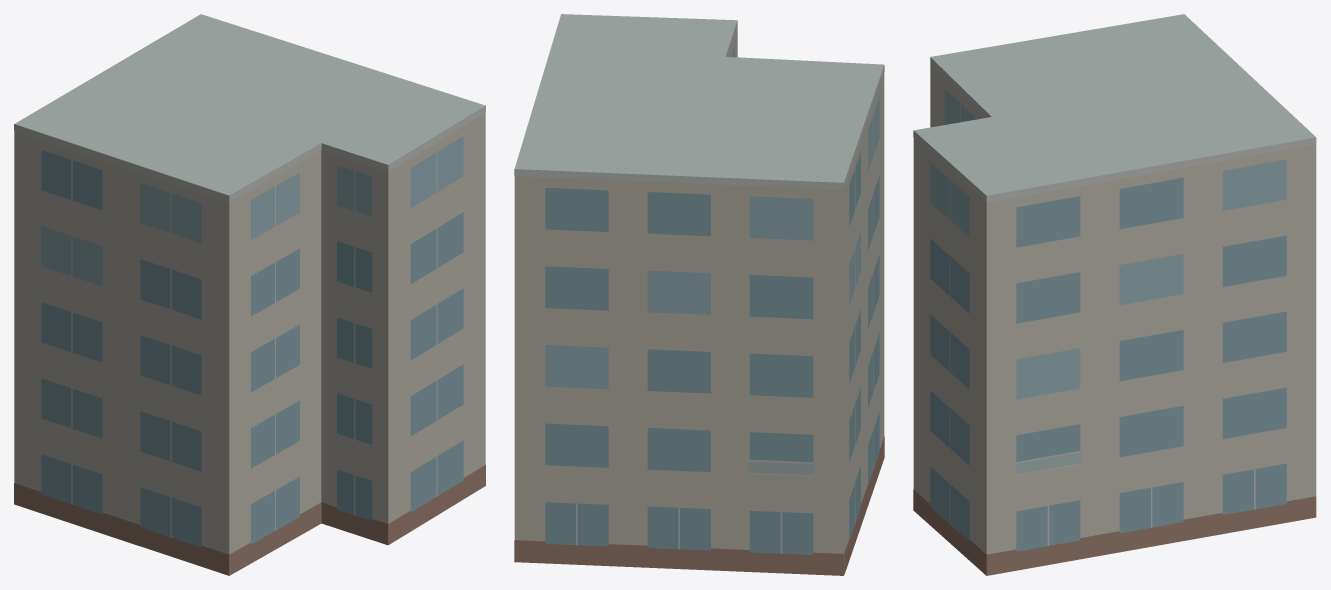
File: survey-upis-32853081.glb
3 views of the same model, side by side, from view 1: azimuth 30°, elevation 25°; view 2: azimuth 150°, elevation 25°; view 3: azimuth 270°, elevation 25° (orthographic). The views are drawn at different scales.
Parts seen in each view (by area): view 1: survey-upis-32853081.tmp; view 2: survey-upis-32853081.tmp; view 3: survey-upis-32853081.tmp.
Part boxes in pixels (x1,y1,x2,y2): survey-upis-32853081.tmp: (14,14,485,575); survey-upis-32853081.tmp: (514,14,884,575); survey-upis-32853081.tmp: (913,14,1316,575).
Bounding box in the file's own units: 13.75 × 13.4 × 12.88.
